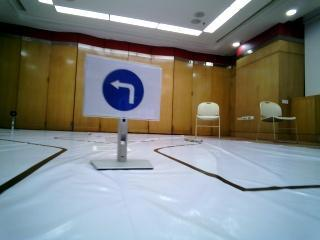left: (92, 62, 156, 117)
